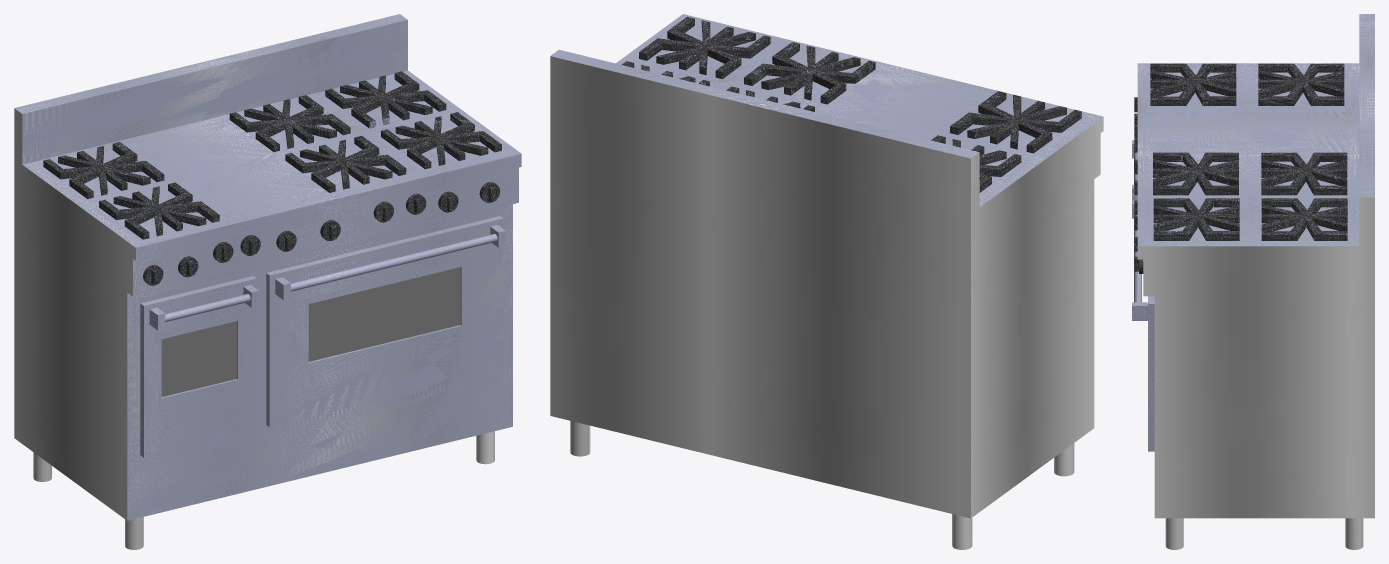
The model's file is oven.min.dae.
3 views of the same model, side by side, from view 1: azimuth 30°, elevation 25°; view 2: azimuth 150°, elevation 25°; view 3: azimuth 270°, elevation 25° (orthographic). The views are drawn at different scales.
Visible parts, largest first — view 1: Group1; view 2: Group1; view 3: Group1.
Part boxes in pixels (x1,y1,x2,y2): Group1: (14,14,521,549); Group1: (550,14,1103,549); Group1: (1132,14,1374,549).
Size of the model in its own units: 47.88 by 26.81 by 43.5.
